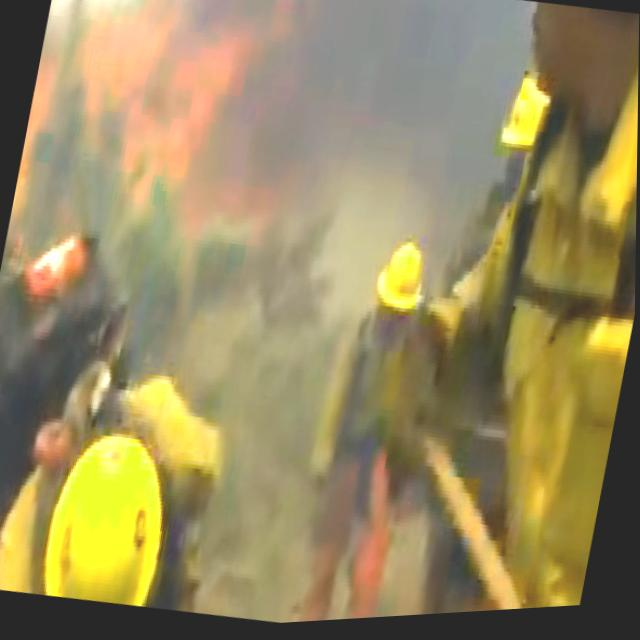smoke: (209, 0, 452, 155)
